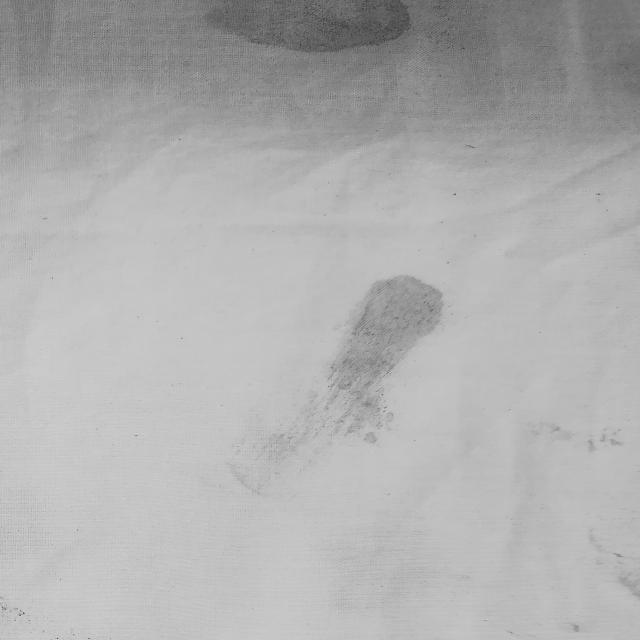Thread_other: (208, 247, 466, 521), (494, 369, 640, 640), (190, 0, 443, 84)
